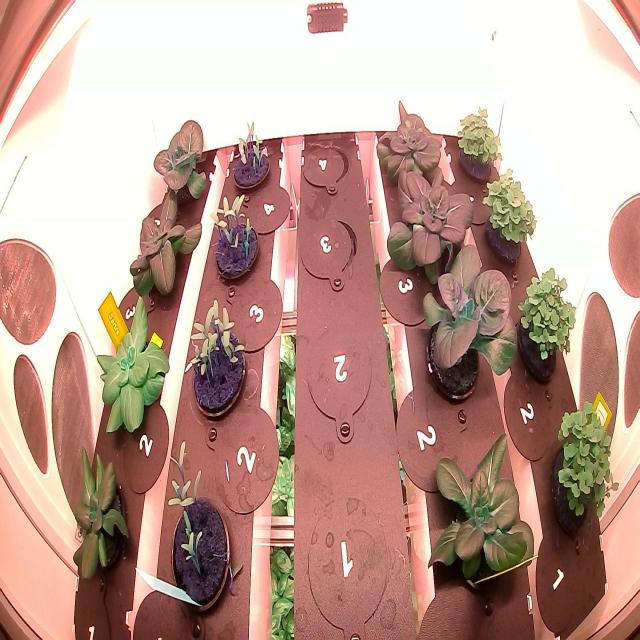empty_pod: (299, 482, 396, 639), (300, 305, 380, 453), (297, 208, 363, 307), (299, 136, 353, 200)
germination: (180, 288, 254, 440), (204, 183, 266, 284), (222, 112, 277, 199)
young: (424, 422, 540, 606), (412, 231, 523, 414), (117, 164, 210, 320), (381, 152, 486, 288), (90, 286, 172, 444), (65, 437, 137, 595), (371, 83, 453, 199), (148, 105, 214, 214)
